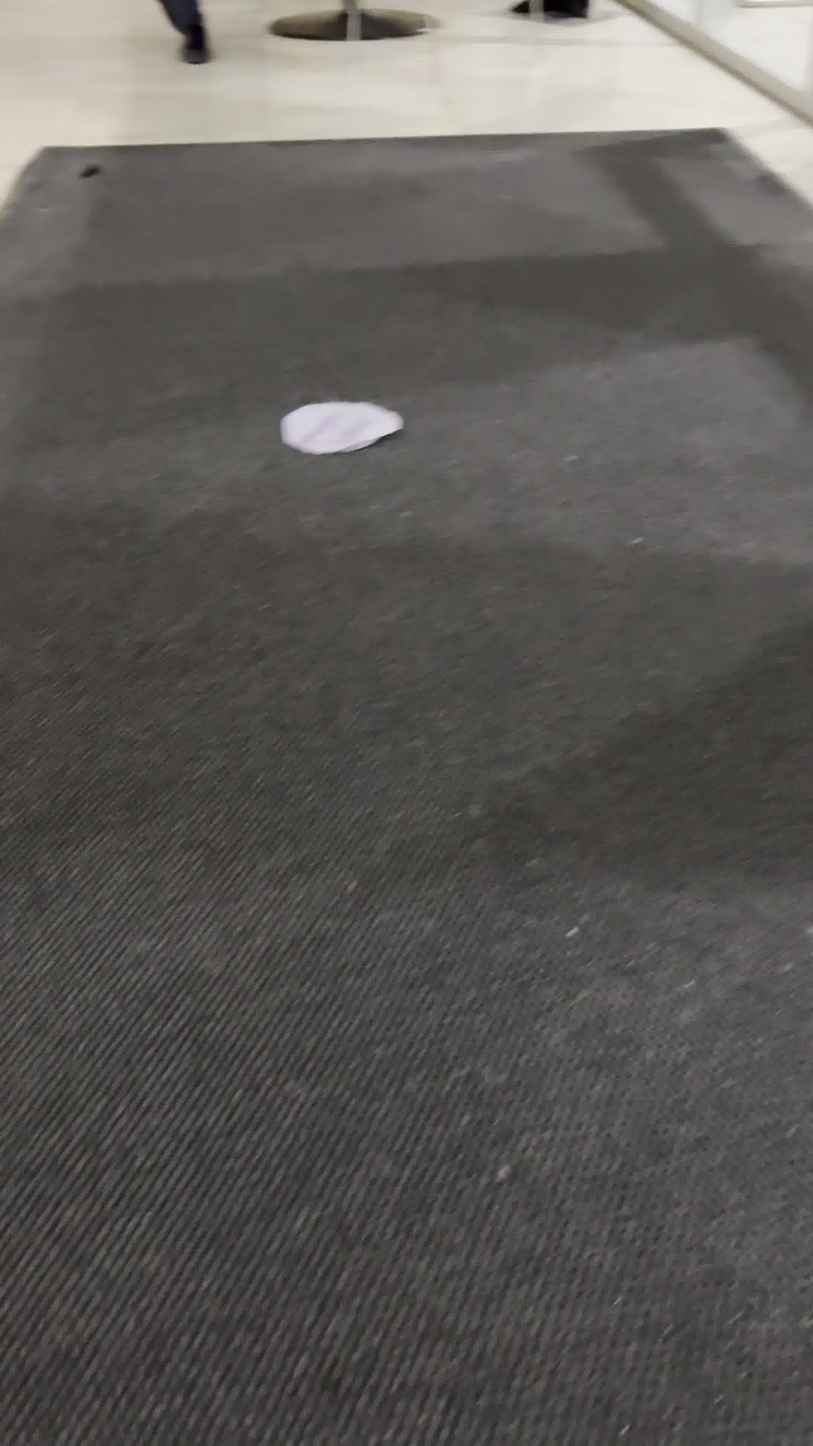Target: (278, 400, 410, 458)
